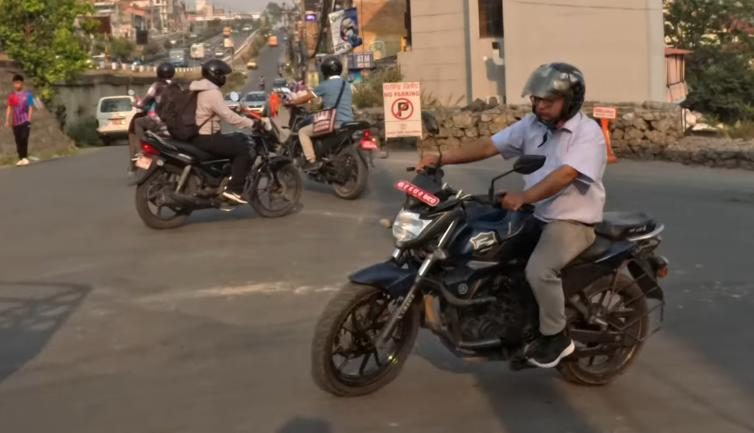bike: (307, 108, 681, 399), (122, 92, 303, 232)
